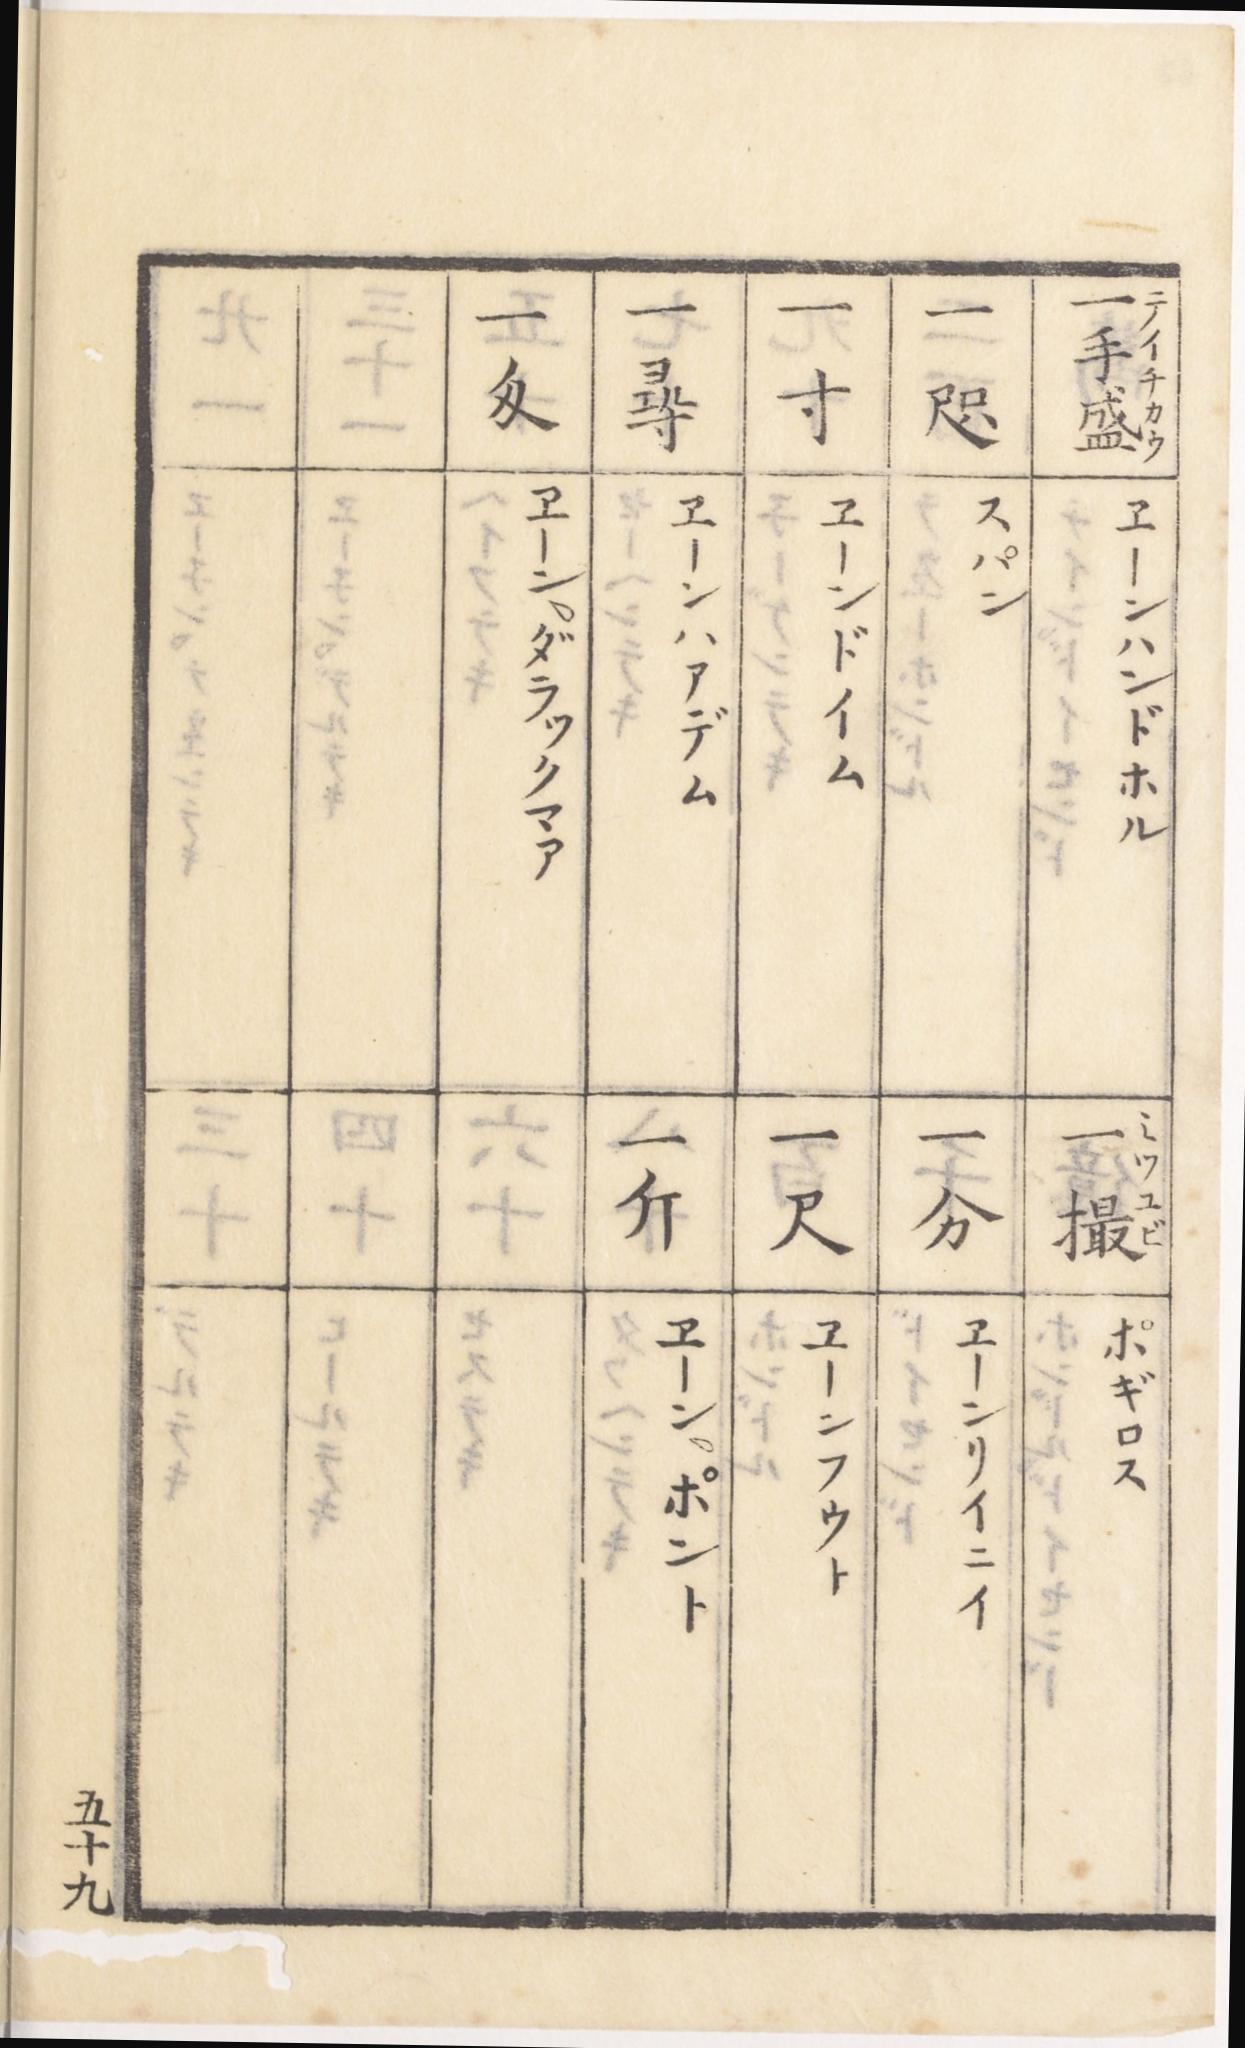MainZone-Character: (1052, 1183, 1165, 1265), (1065, 386, 1173, 465), (1059, 1104, 1167, 1182), (1065, 325, 1172, 392), (1058, 284, 1169, 328)
MainZone-Ruby: (1129, 1106, 1162, 1179), (1134, 1188, 1167, 1249), (1140, 395, 1167, 465), (1137, 331, 1166, 386), (1138, 287, 1170, 323)
